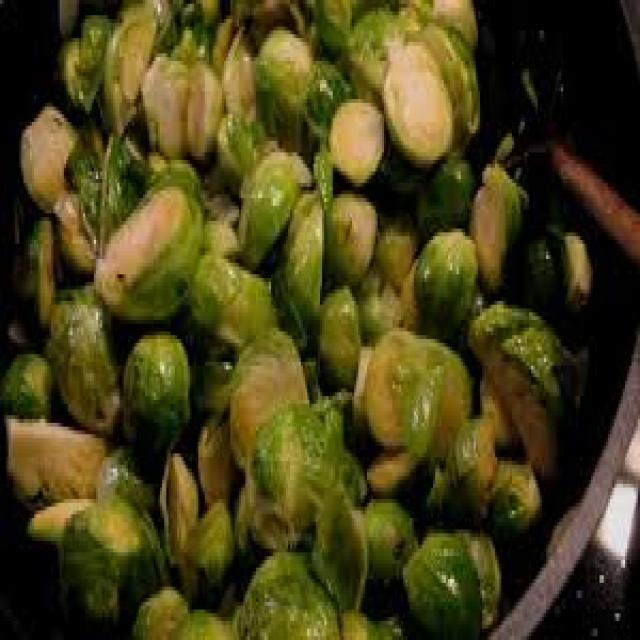organic waste: (0, 0, 589, 625), (465, 294, 585, 472), (26, 488, 160, 624), (90, 160, 202, 320), (358, 316, 469, 472), (239, 396, 346, 549), (226, 328, 309, 483), (399, 522, 497, 636), (4, 408, 113, 510), (45, 282, 119, 427), (405, 221, 482, 350), (102, 0, 176, 133), (239, 537, 337, 636), (305, 457, 367, 610), (117, 335, 190, 461), (382, 34, 452, 156), (6, 198, 60, 335), (422, 11, 478, 141), (190, 248, 273, 332), (66, 126, 137, 221), (472, 148, 520, 286), (342, 0, 406, 103), (256, 26, 316, 130), (19, 99, 79, 202), (282, 182, 322, 328), (407, 152, 476, 236), (55, 11, 111, 114), (177, 495, 233, 598), (241, 148, 297, 248), (141, 42, 190, 152), (324, 91, 386, 176), (478, 453, 540, 537), (316, 278, 360, 392), (194, 400, 235, 518), (352, 263, 405, 354), (452, 412, 499, 511), (363, 488, 416, 575), (98, 438, 160, 511), (215, 27, 262, 122), (322, 183, 369, 274), (188, 347, 243, 419), (160, 457, 194, 568), (181, 57, 222, 149), (552, 217, 591, 309), (228, 0, 303, 46), (126, 579, 185, 636), (376, 194, 418, 274), (303, 61, 346, 133), (4, 347, 47, 419), (337, 594, 403, 636), (482, 370, 516, 446), (309, 0, 356, 50), (522, 225, 554, 293), (175, 0, 222, 46), (169, 606, 241, 636), (363, 438, 414, 476), (431, 0, 476, 42), (207, 16, 239, 72), (305, 351, 329, 412), (386, 0, 418, 23)
